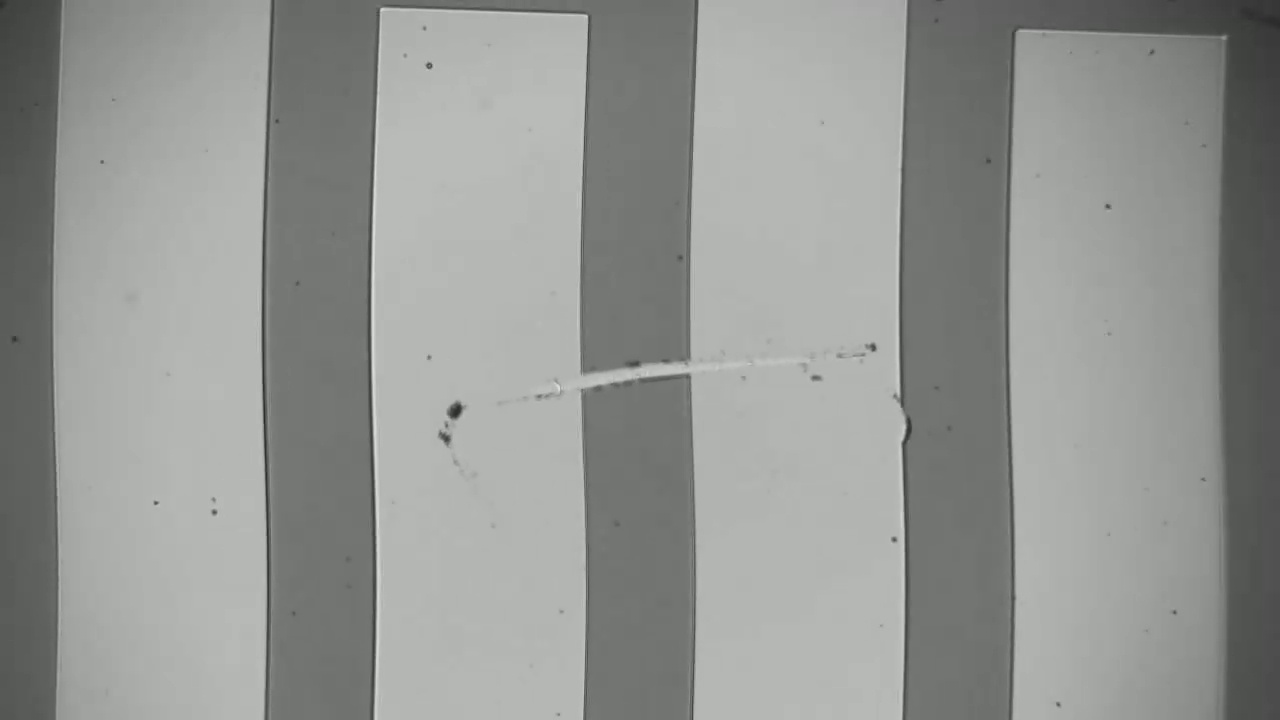Short_circuit: (555, 327, 716, 413)
